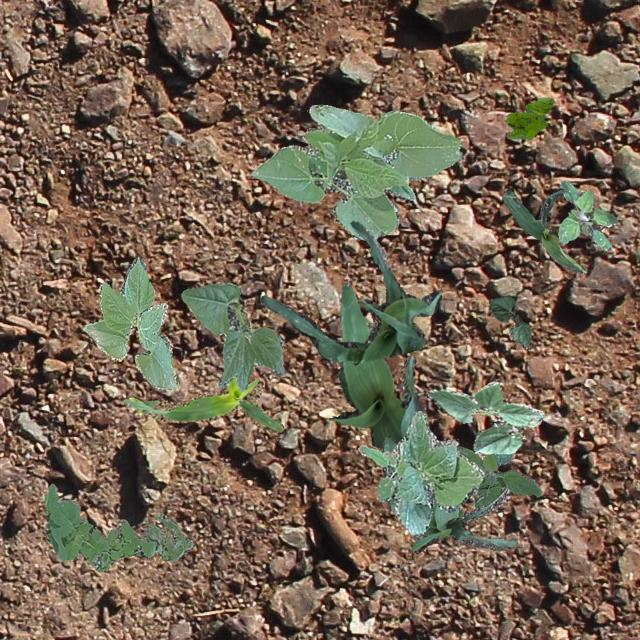crop: (250, 104, 460, 238), (258, 220, 441, 364), (122, 310, 282, 432), (328, 283, 424, 447), (381, 436, 516, 552), (358, 410, 482, 536), (81, 256, 178, 388), (180, 282, 284, 391), (427, 379, 543, 454), (502, 186, 586, 272), (488, 296, 530, 350)
weed: (44, 482, 192, 570), (457, 446, 541, 508), (556, 180, 616, 250), (506, 96, 552, 138)
